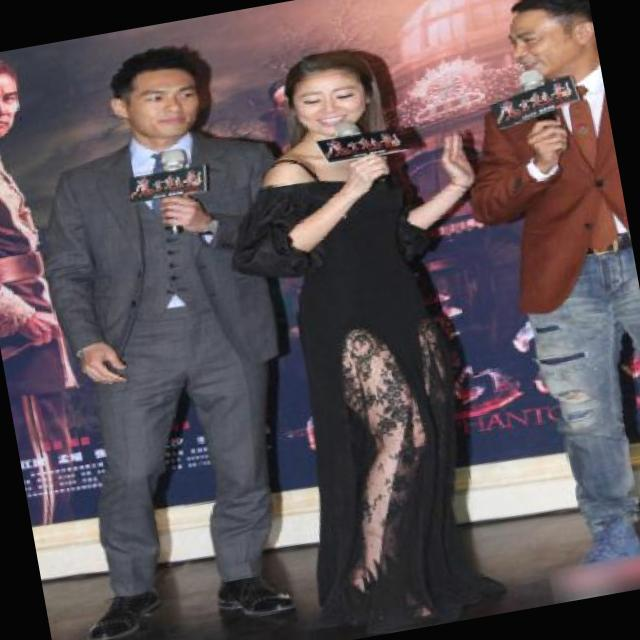Person: (227, 21, 566, 640), (0, 34, 327, 640), (425, 0, 640, 606), (484, 391, 512, 447)
